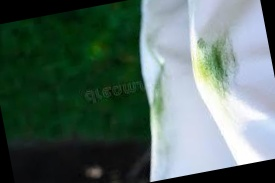earth: (192, 41, 235, 95), (145, 79, 170, 123)
